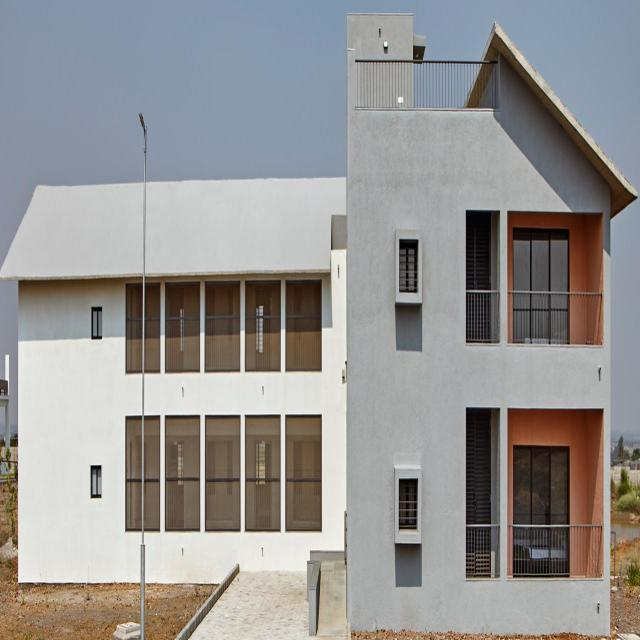Railing: (356, 56, 498, 108), (509, 290, 604, 348), (510, 524, 604, 578), (166, 476, 204, 532), (166, 316, 202, 371), (207, 317, 243, 372), (288, 316, 324, 370), (248, 315, 284, 368), (246, 479, 282, 532), (128, 477, 162, 533), (468, 289, 502, 343), (468, 525, 502, 579), (288, 479, 323, 530), (128, 320, 162, 372), (207, 482, 243, 526)
wall: (0, 9, 636, 637)
windows: (515, 443, 572, 523), (515, 227, 571, 291), (288, 414, 323, 481), (207, 416, 241, 482), (166, 416, 202, 476), (248, 416, 283, 477), (128, 416, 162, 476), (128, 283, 164, 319), (207, 281, 242, 317), (288, 280, 324, 315), (247, 280, 283, 314), (168, 282, 202, 316), (400, 477, 418, 528), (399, 244, 416, 290), (92, 466, 102, 496), (92, 307, 101, 338)
